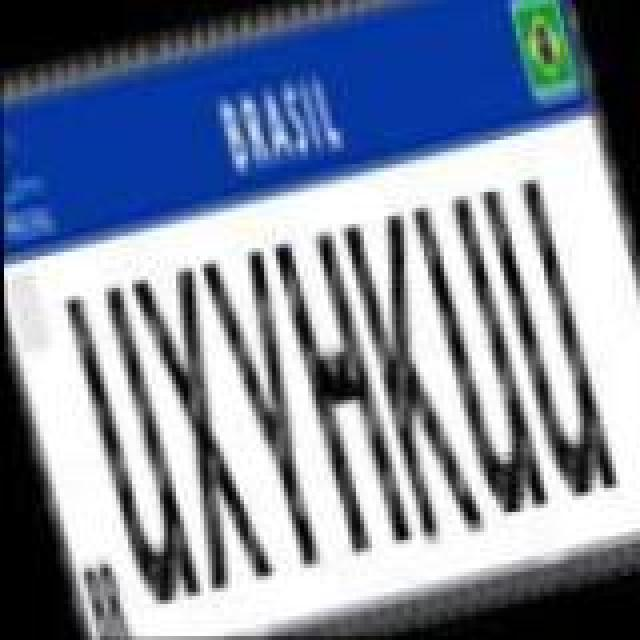H: (264, 222, 412, 558)
K: (334, 202, 486, 550)
U: (58, 272, 202, 612), (476, 166, 620, 506), (408, 188, 548, 524)
X: (126, 256, 274, 596)
Y: (194, 240, 342, 576)
